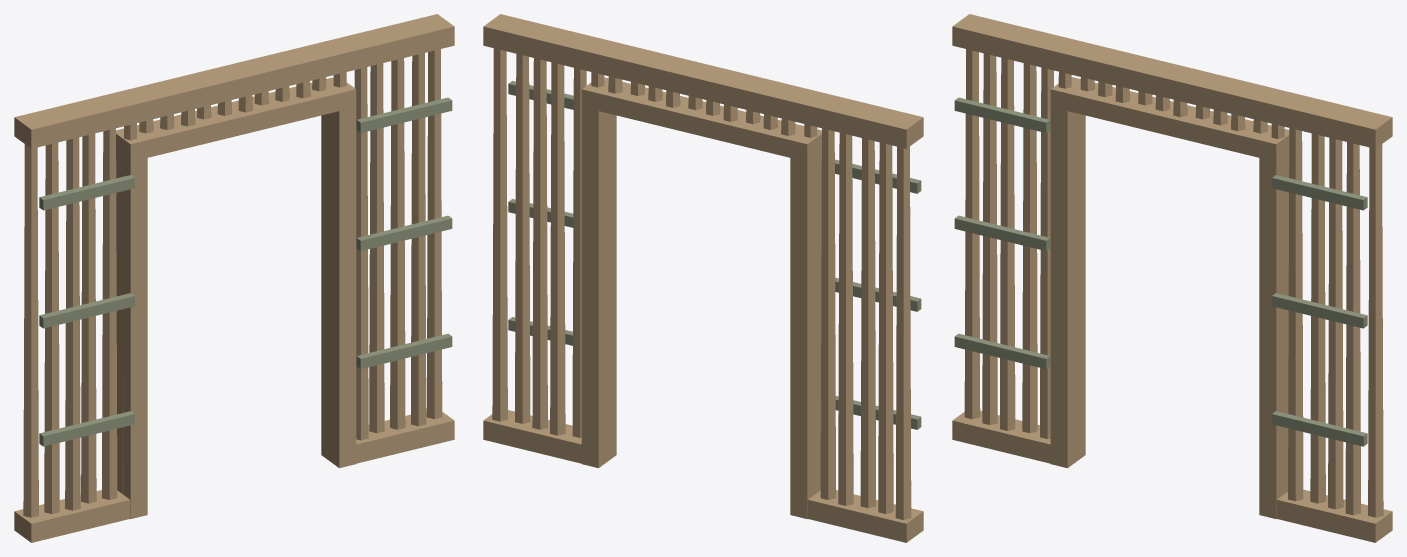
File: wipe-day-survival-island-twig-doorway-wall-3abe2639__27495.glb
3 renders of one model, left to right at view 1: azimuth 30°, elevation 25°; view 2: azimuth 150°, elevation 25°; view 3: azimuth 330°, elevation 25°, orthographic.
Parts seen in each view (by area): view 1: twig-doorway-wall; view 2: twig-doorway-wall; view 3: twig-doorway-wall.
Boxes of the visible parts, bbox=[...] form: twig-doorway-wall: bbox=[14, 14, 454, 542]; twig-doorway-wall: bbox=[483, 14, 923, 542]; twig-doorway-wall: bbox=[952, 14, 1392, 542].
Size of the model in its own units: 3 by 2.8 by 0.275.
